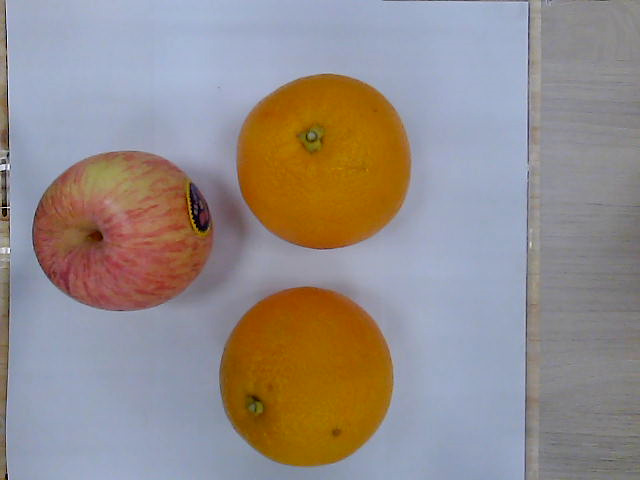fresh_apple: (32, 150, 215, 313)
fresh_orange: (220, 286, 395, 466), (236, 73, 411, 250)
